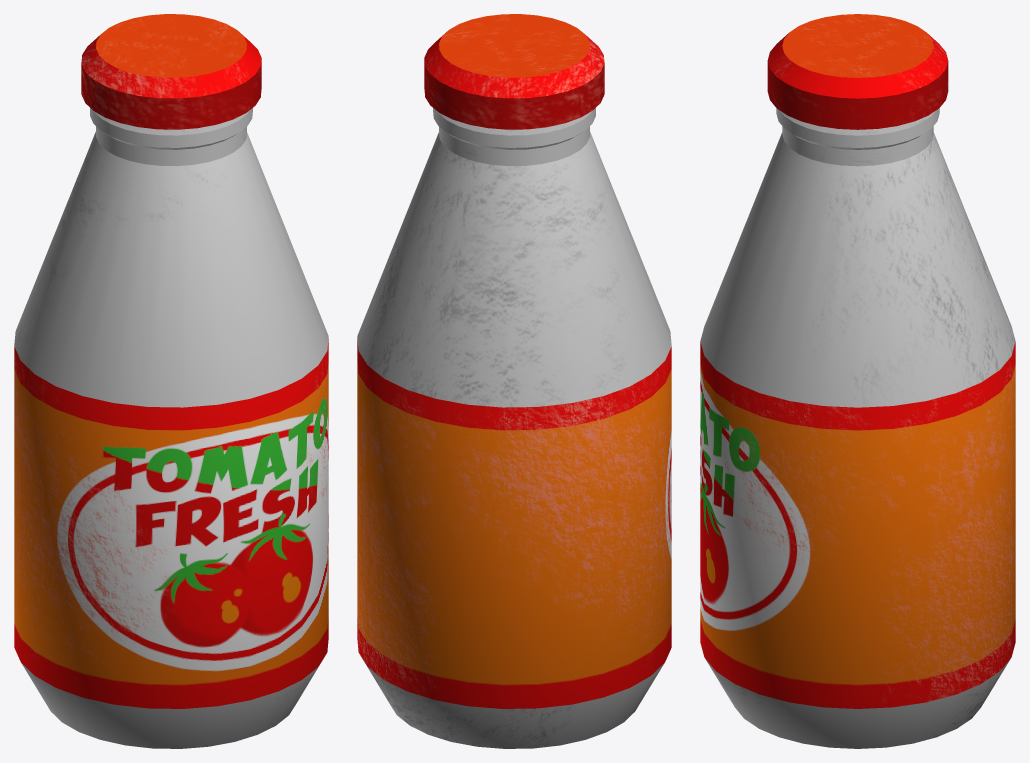
Rendered from 토마토주스병.fbx.
The picture shows the model from 3 angles, left to right: view 1: azimuth 30°, elevation 25°; view 2: azimuth 150°, elevation 25°; view 3: azimuth 270°, elevation 25°; orthographic projection.
Parts seen in each view (by area): view 1: 주스병; view 2: 주스병; view 3: 주스병.
Part boxes in pixels (bbox=[...]): 주스병: bbox=[14, 14, 328, 748]; 주스병: bbox=[357, 14, 671, 748]; 주스병: bbox=[700, 14, 1015, 748].
Bounding box in the file's own units: 265 × 602 × 265.
Materials: 1 (1 with a texture image).
